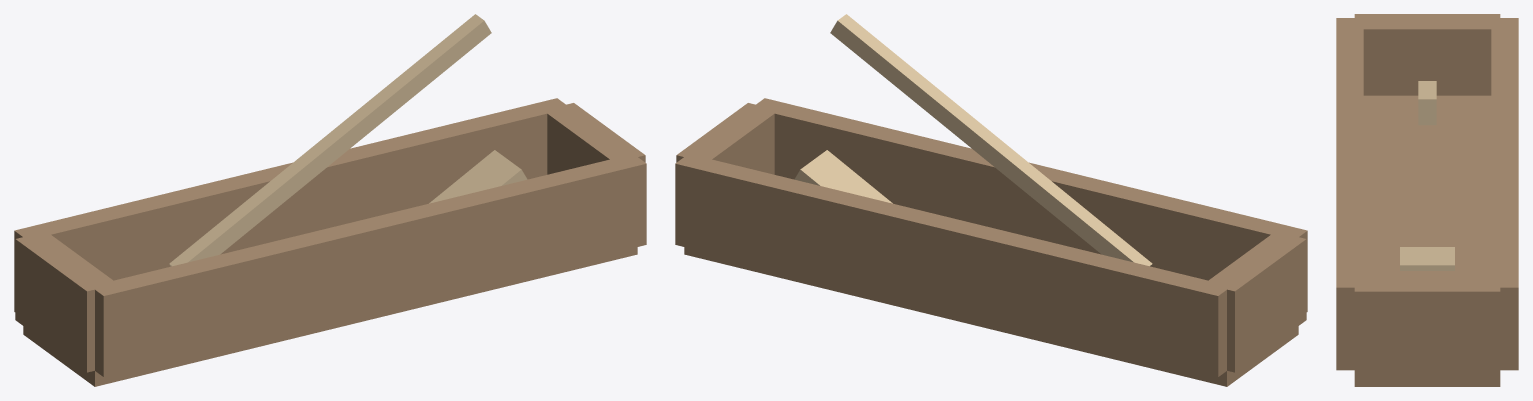
The model's file is canoa.glb.
3 views of the same model, side by side, from view 1: azimuth 30°, elevation 25°; view 2: azimuth 150°, elevation 25°; view 3: azimuth 270°, elevation 25° (orthographic).
Parts seen in each view (by area): view 1: canoa; view 2: canoa; view 3: canoa.
Part boxes in pixels (box(x1,y1,x2,y2)): canoa: box(14, 14, 646, 386); canoa: box(675, 14, 1307, 386); canoa: box(1336, 14, 1518, 386).
Size of the model in its own units: 0.72 by 0.2966 by 0.2.
